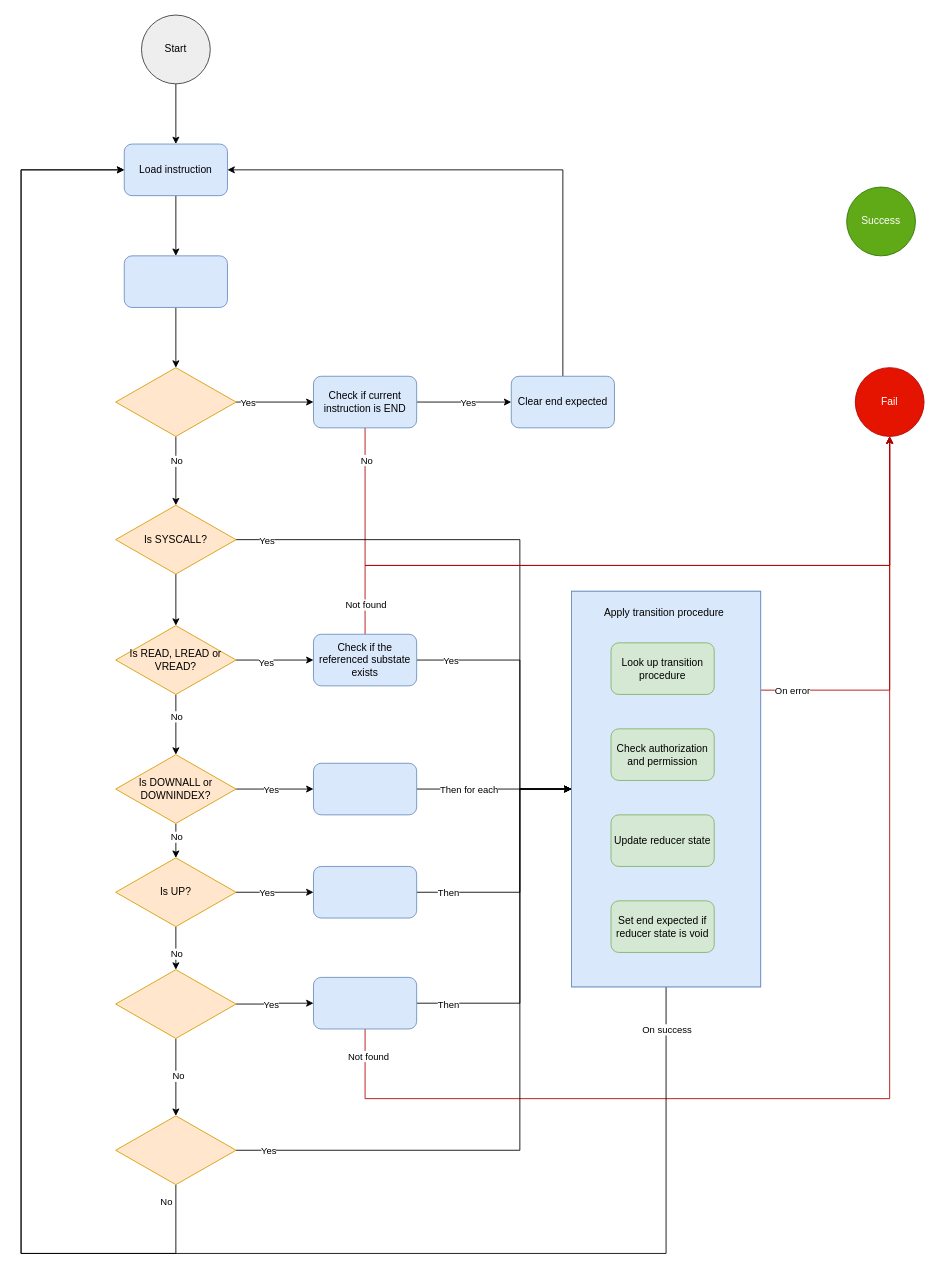
This 939x1275 diagram has some shape labels left out. Here are the shapes that lost their labels. From the top down, the centre of each, then its label:
point (175, 281): Update current instruction and index
point (175, 401): Is end expected?
point (365, 788): Prepare an iterator over the substates
point (365, 892): Boot up the new substate
point (175, 1003): Is DOWN, VDOWN, VDOWNARG or LDOWN?
point (365, 1003): Spin down the referenced substate
point (175, 1150): Is END?
